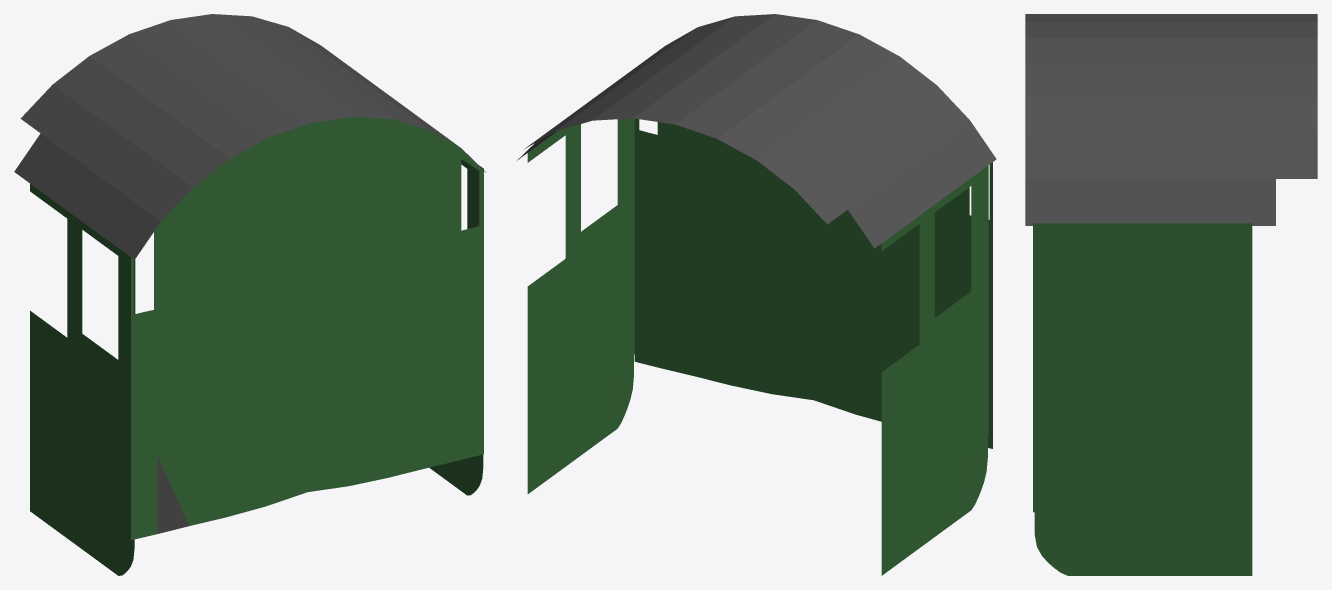
File: gwr-collett-cab.dae
3 views of the same model, side by side, from view 1: azimuth 30°, elevation 25°; view 2: azimuth 150°, elevation 25°; view 3: azimuth 270°, elevation 25° (orthographic). The views are drawn at different scales.
Visible parts, largest first — view 1: Tube, Plane_002, Plane; view 2: Tube, Plane_002, Plane; view 3: Tube, Plane, Plane_002.
Part boxes in pixels (<box>): Tube: <box>14,14,486,540</box>; Plane_002: <box>30,184,135,575</box>; Plane: <box>429,159,483,495</box>; Tube: <box>517,14,996,448</box>; Plane_002: <box>881,165,988,575</box>; Plane: <box>527,118,634,493</box>; Tube: <box>1025,14,1317,225</box>; Plane: <box>1033,223,1252,575</box>; Plane_002: <box>1068,236,1252,362</box>.
Size of the model in its own units: 1.67 by 1.15 by 1.95.
